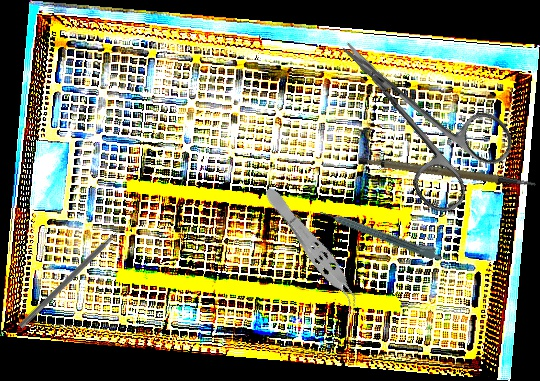Handpiece: (318, 203, 446, 263)
Iris Scissors: (307, 3, 523, 221)
Scalpel Handle: (357, 133, 537, 215)
Spatula Surgical: (17, 220, 132, 335)
Tissue Forceps: (257, 182, 369, 317)
